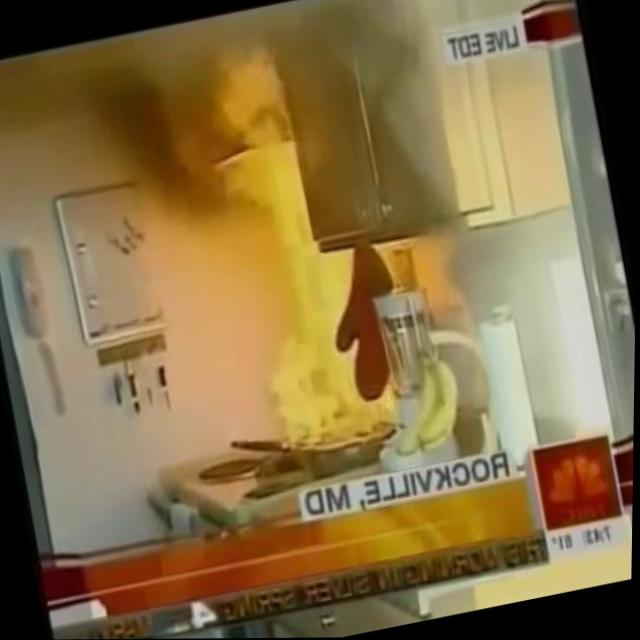fire: (190, 34, 434, 467)
